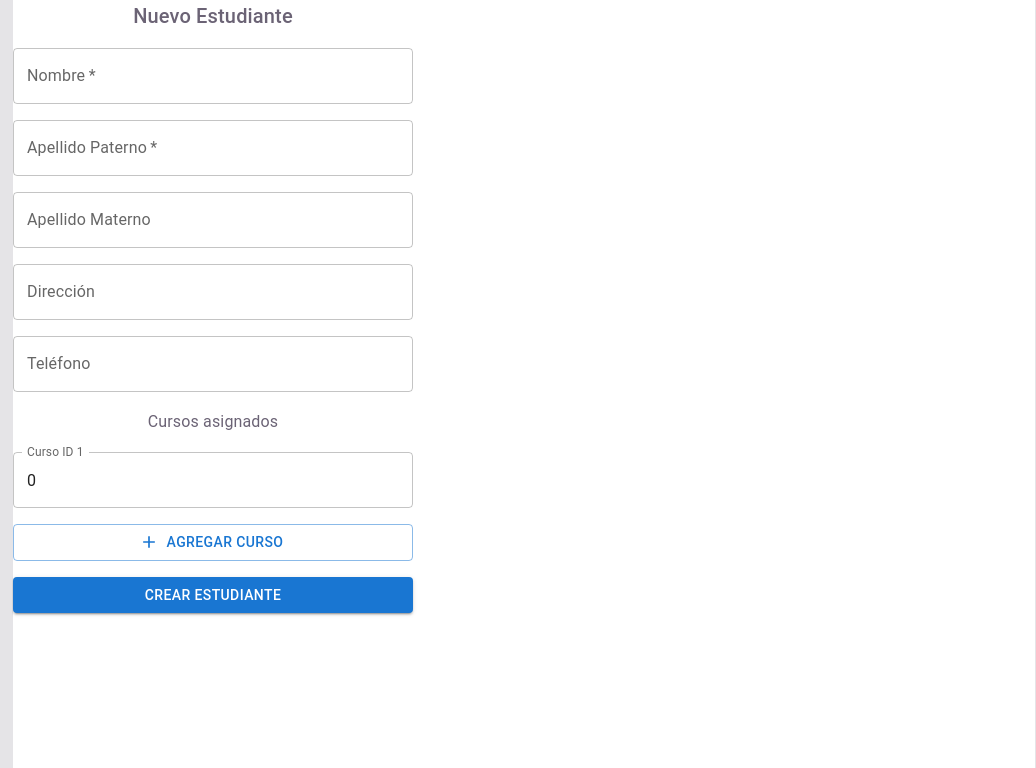
it: Componente EstudianteForm › Permite agregar nuevos campos de cursos
Check: the number of number fields is 1, box [13,452,413,508]
Click the button "Agregar curso": [213, 542] box [13,524,413,560]
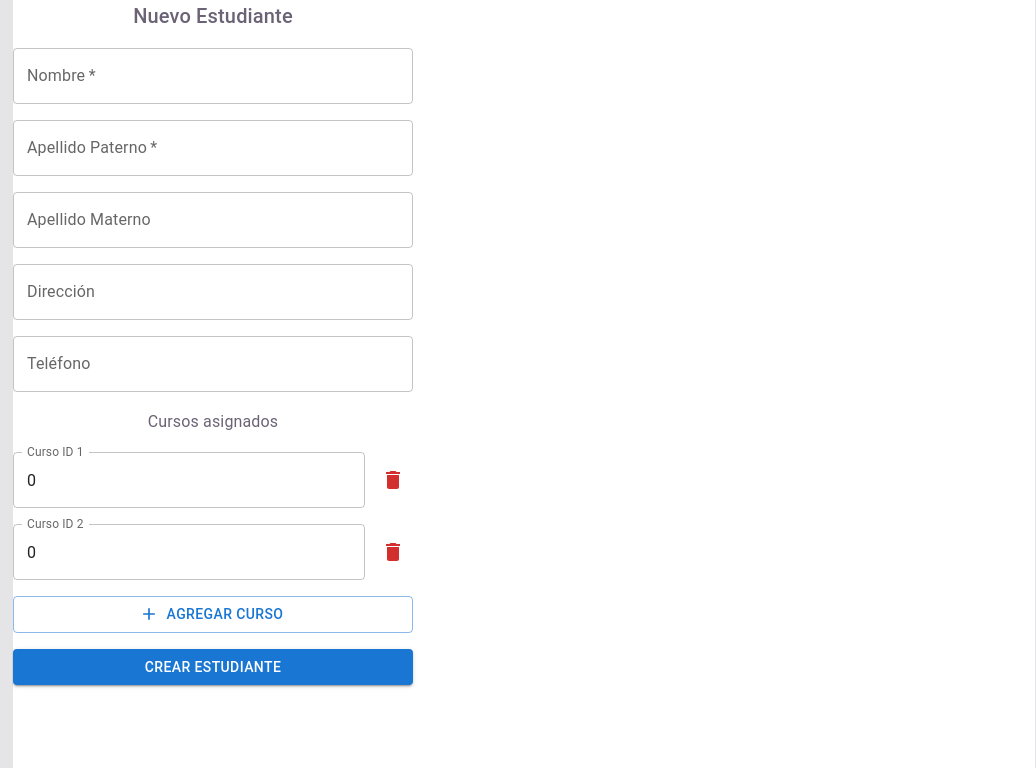
Check: the number of number fields is 2, box [13,452,365,508]; [13,524,365,580]
